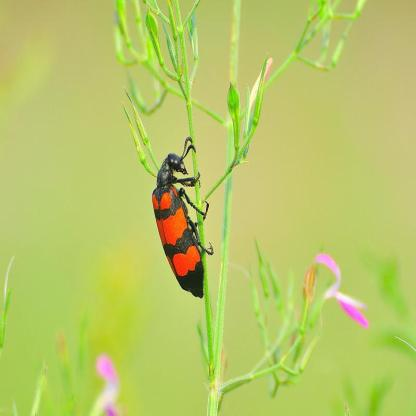beetle: (145, 131, 223, 302)
